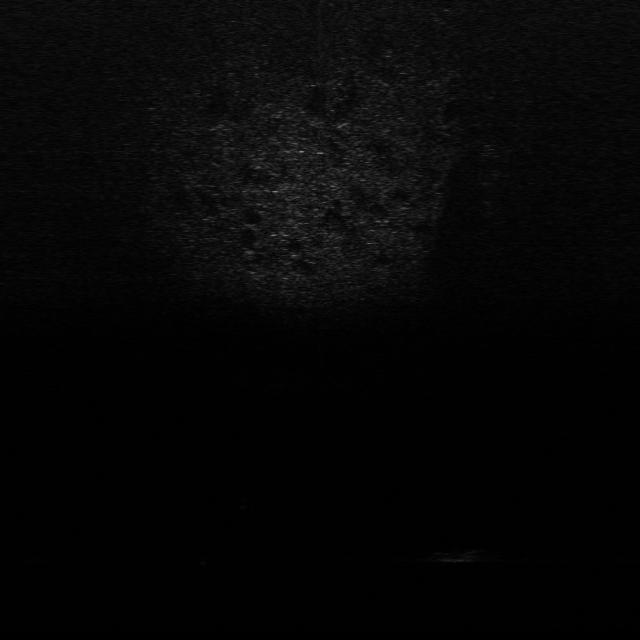metal bucket: (424, 546, 486, 565)
